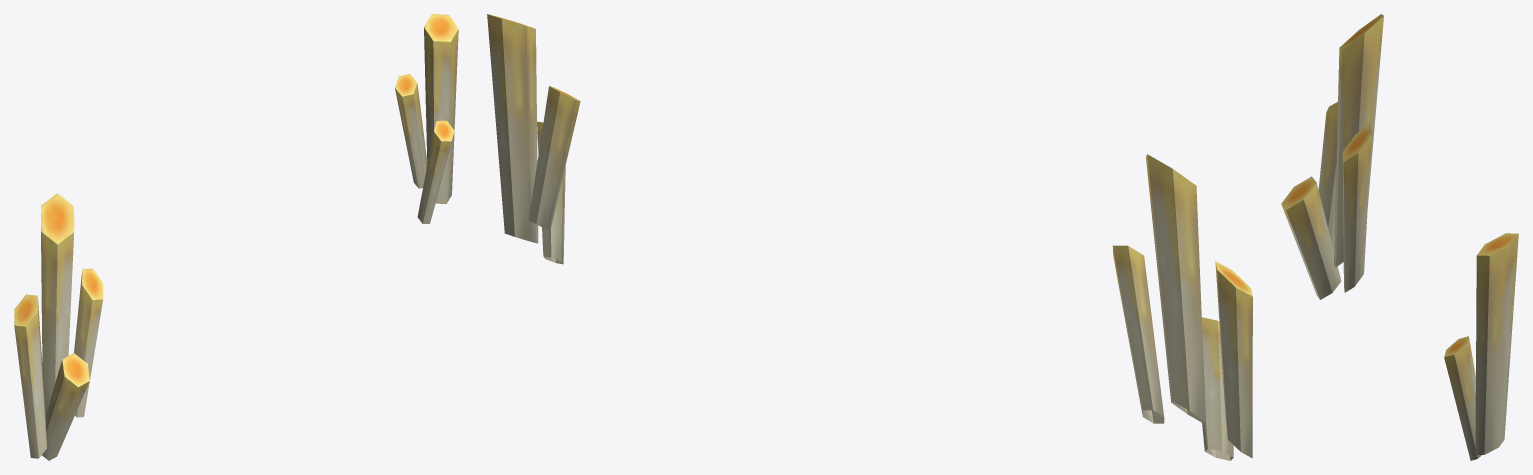
Rendered from Area_02_4.fbx.
The picture shows the model from 3 angles, left to right: view 1: azimuth 30°, elevation 25°; view 2: azimuth 150°, elevation 25°; view 3: azimuth 270°, elevation 25°; orthographic projection. The views are drawn at different scales.
Visible parts, largest first — view 1: Area_02_4; view 2: Area_02_4; view 3: Area_02_4.
Part boxes in pixels (x1,y1,x2,y2): Area_02_4: (14, 14, 458, 460); Area_02_4: (487, 14, 1252, 460); Area_02_4: (1281, 14, 1518, 460).
Bounding box in the file's own units: 358 × 187 × 116.
